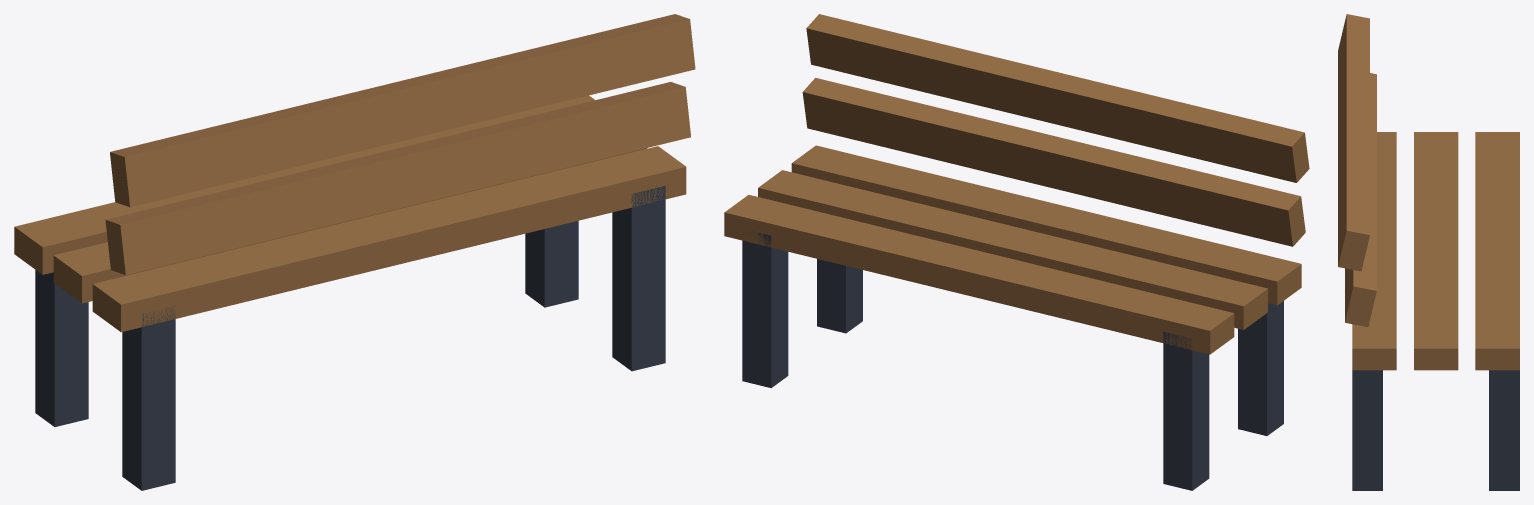
The model's file is xy_town_bench.glb.
3 renders of one model, left to right at view 1: azimuth 30°, elevation 25°; view 2: azimuth 150°, elevation 25°; view 3: azimuth 270°, elevation 25°, orthographic. The views are drawn at different scales.
Parts seen in each view (by area): view 1: xy_town_bench; view 2: xy_town_bench; view 3: xy_town_bench.
Part boxes in pixels (box(x1,y1,x2,y2)): xy_town_bench: box(14, 14, 695, 490); xy_town_bench: box(724, 14, 1309, 490); xy_town_bench: box(1338, 14, 1519, 490).
Bounding box in the file's own units: 1.5 × 0.866 × 0.5317.
